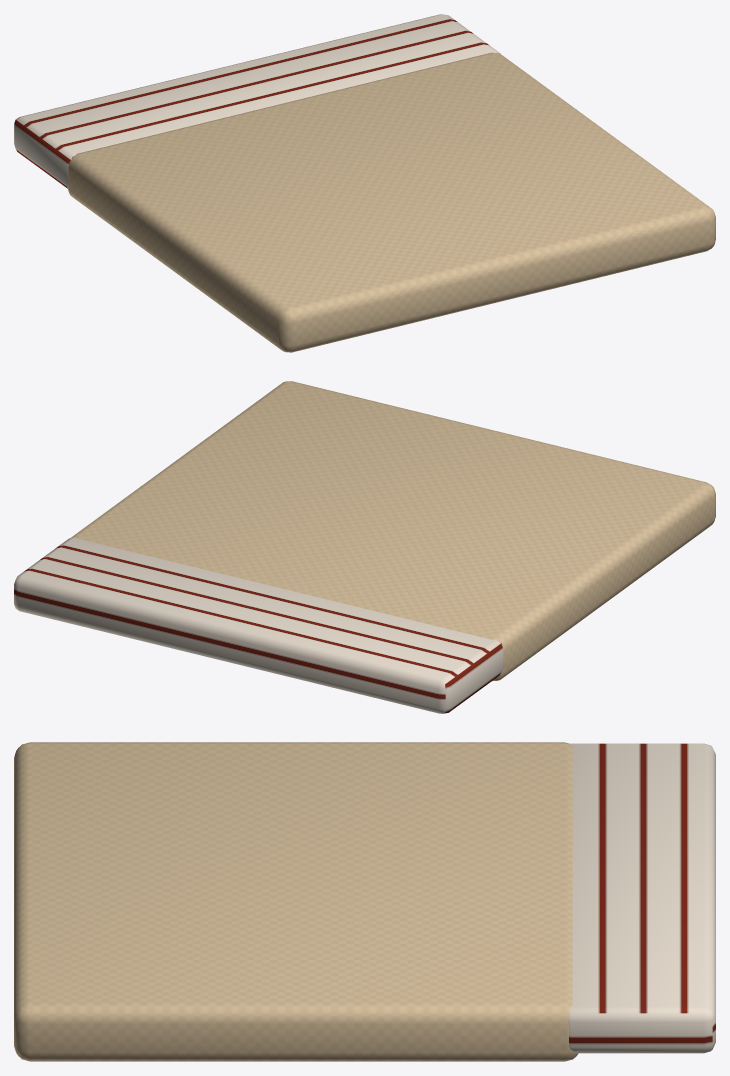
File: modern_bedspread_01.glb
3 renders of one model, top to bottom at view 1: azimuth 30°, elevation 25°; view 2: azimuth 150°, elevation 25°; view 3: azimuth 270°, elevation 25°, orthographic. The views are drawn at different scales.
Visible parts, largest first — view 1: modern_bedspread_01; view 2: modern_bedspread_01; view 3: modern_bedspread_01.
Boxes of the visible parts, bbox=[...] form: modern_bedspread_01: bbox=[14, 14, 715, 352]; modern_bedspread_01: bbox=[14, 381, 715, 713]; modern_bedspread_01: bbox=[14, 742, 715, 1061].
Bounding box in the file's own units: 1.65 × 0.16 × 1.8.
Materials: 2 (2 with a texture image).
